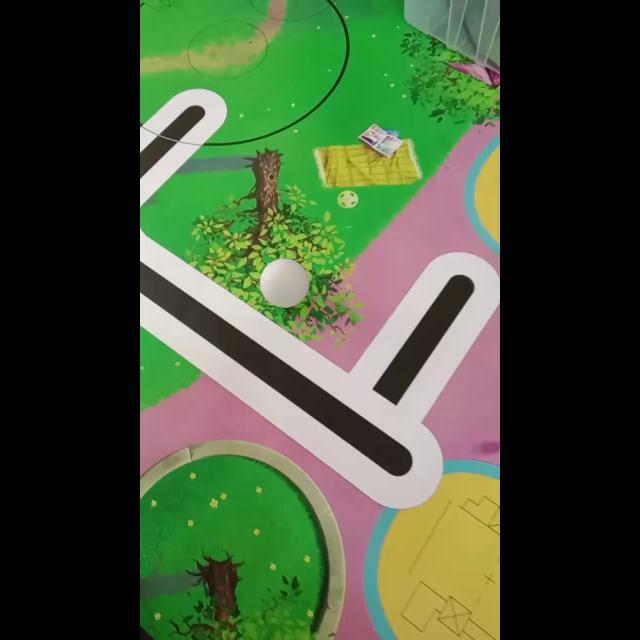white ball: (258, 257, 310, 309)
